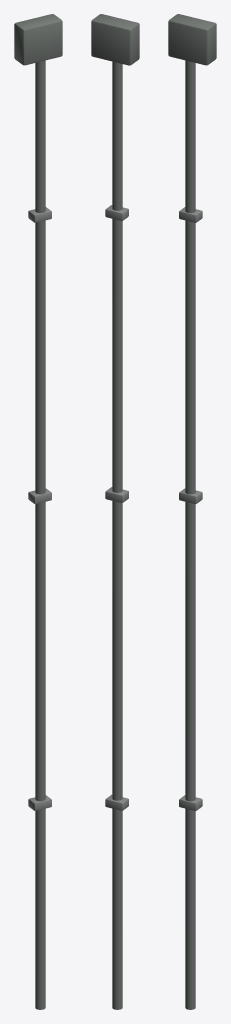
The model's file is CTCC_LOC03_Bed4ConduitR.fbx.
3 views of the same model, side by side, from view 1: azimuth 30°, elevation 25°; view 2: azimuth 150°, elevation 25°; view 3: azimuth 330°, elevation 25° (orthographic).
Visible parts, largest first — view 1: CTCC_LOC03_Bed4ConduitR; view 2: CTCC_LOC03_Bed4ConduitR; view 3: CTCC_LOC03_Bed4ConduitR.
Part boxes in pixels (<box>): CTCC_LOC03_Bed4ConduitR: <box>14,14,62,1009</box>; CTCC_LOC03_Bed4ConduitR: <box>91,14,139,1009</box>; CTCC_LOC03_Bed4ConduitR: <box>168,14,216,1009</box>.
Bounding box in the file's own units: 0.082 × 1.93 × 0.036.
